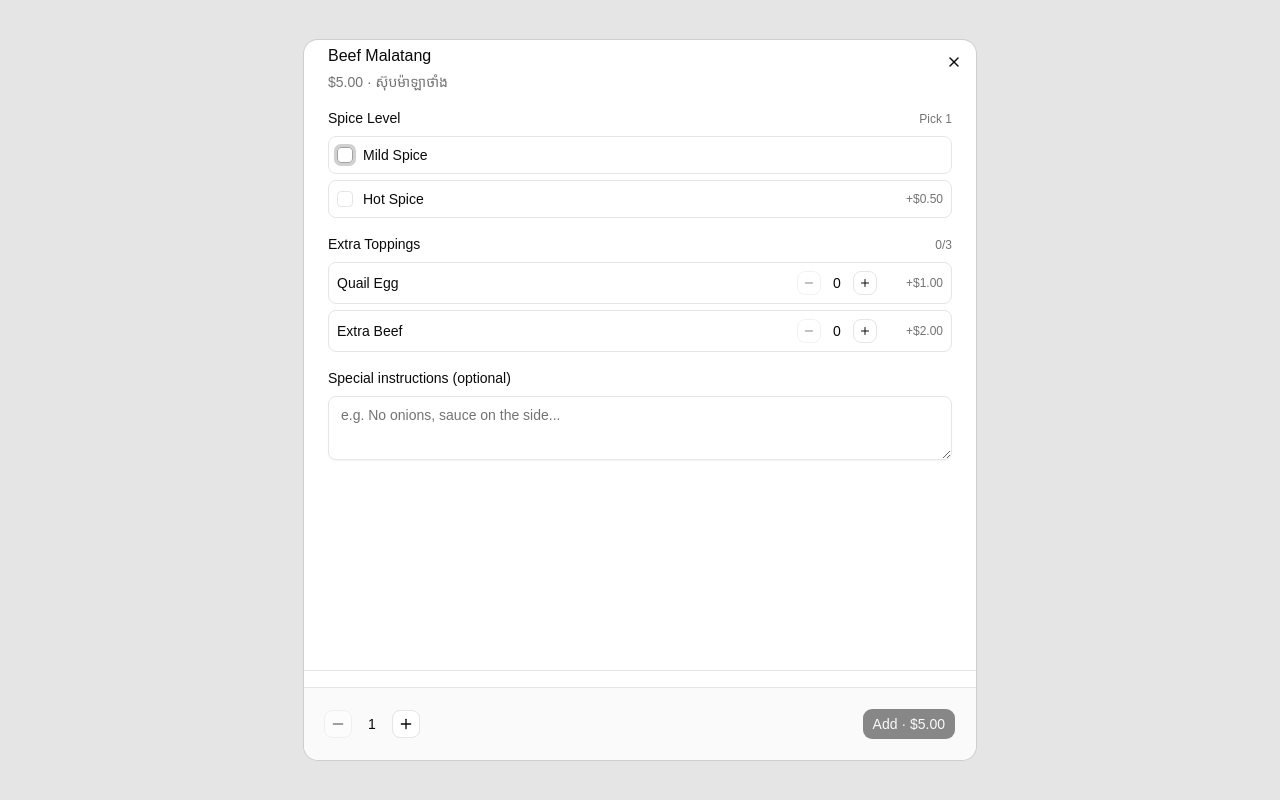
Test: <GuestItemDialog /> › disables add button until required single-choice modifier is selected
expect the button "Add · $5.00" is disabled: met, box [862, 708, 956, 740]
// Select Mild Spice (single choice)
Click the text "Mild Spice" at (395, 155), box [363, 147, 428, 163]
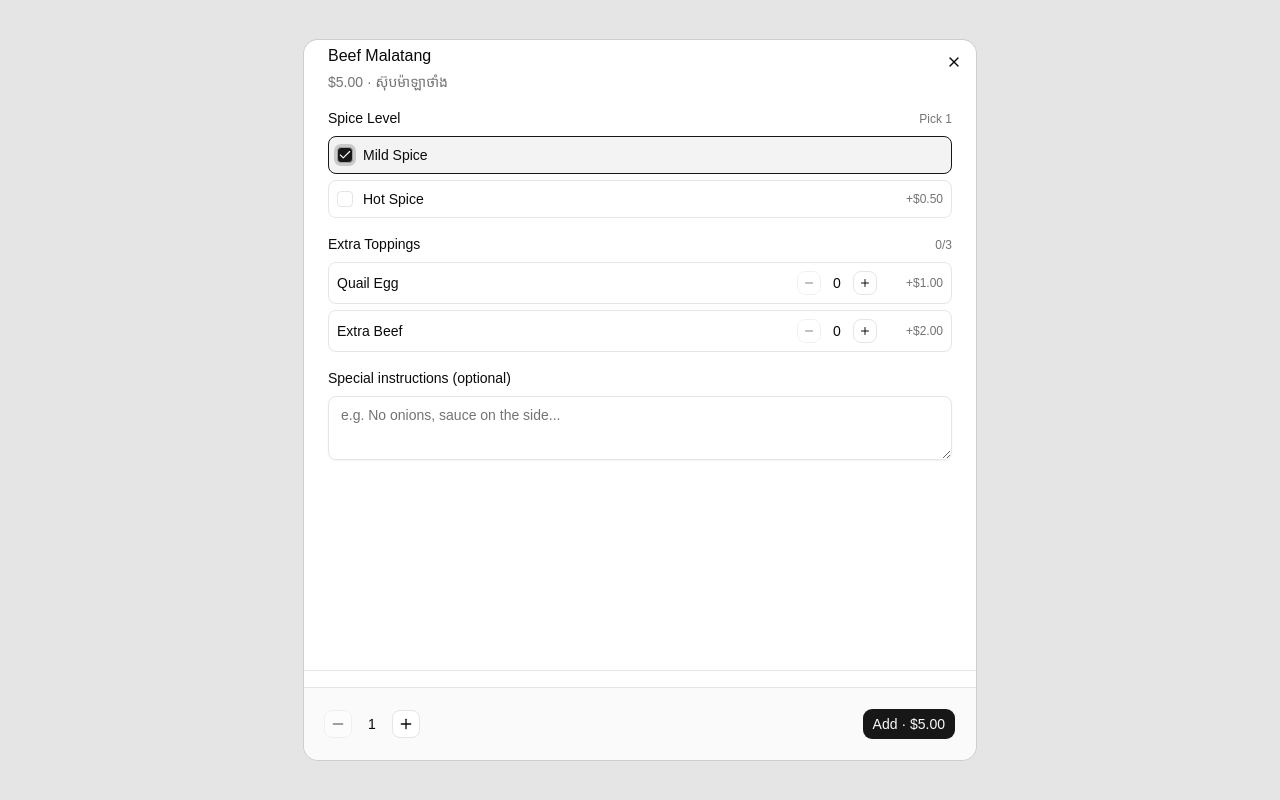
expect the button "Add · $5.00" is enabled: met, box [862, 708, 956, 740]
